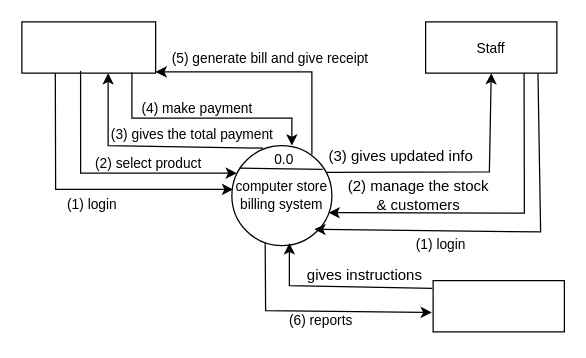
Image size: 586x358. Some labels were removed from this diagram. The shapes that lost their labels are listed below. From the top down, each one's centre as x and y in pixels, then its label:
the point at 88,47: Customer
the point at 498,305: Management
